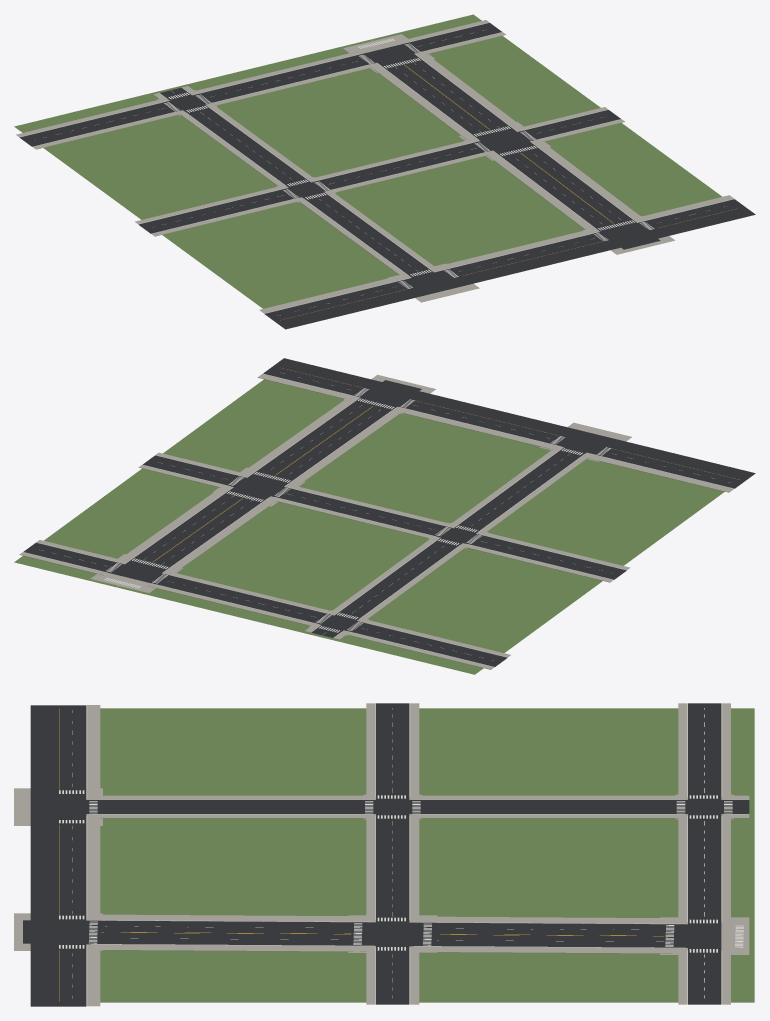
Rendered from Ground_6_4.fbx.
The picture shows the model from 3 angles, top to bottom: view 1: azimuth 30°, elevation 25°; view 2: azimuth 150°, elevation 25°; view 3: azimuth 270°, elevation 25°; orthographic projection. The views are drawn at different scales.
Parts seen in each view (by area): view 1: Ground_6_4; view 2: Ground_6_4; view 3: Ground_6_4.
Part boxes in pixels (left/top/right/bottom): Ground_6_4: left=14, top=14, right=755, bottom=329; Ground_6_4: left=14, top=358, right=755, bottom=674; Ground_6_4: left=14, top=703, right=754, bottom=1006.
Bounding box in the file's own units: 258 × 0.14 × 266.
